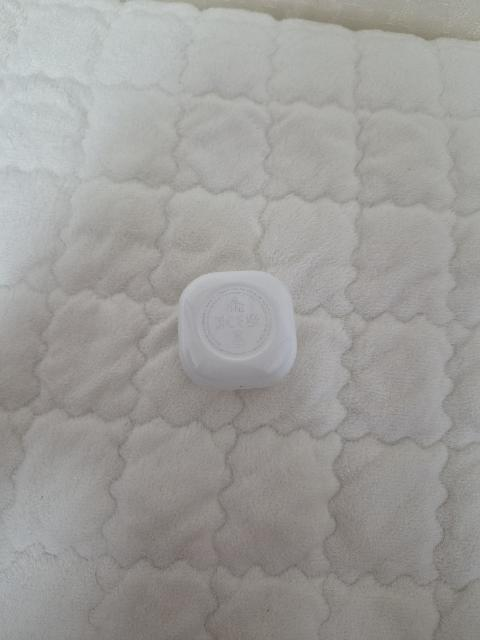earphone_case: (177, 271, 297, 390)
